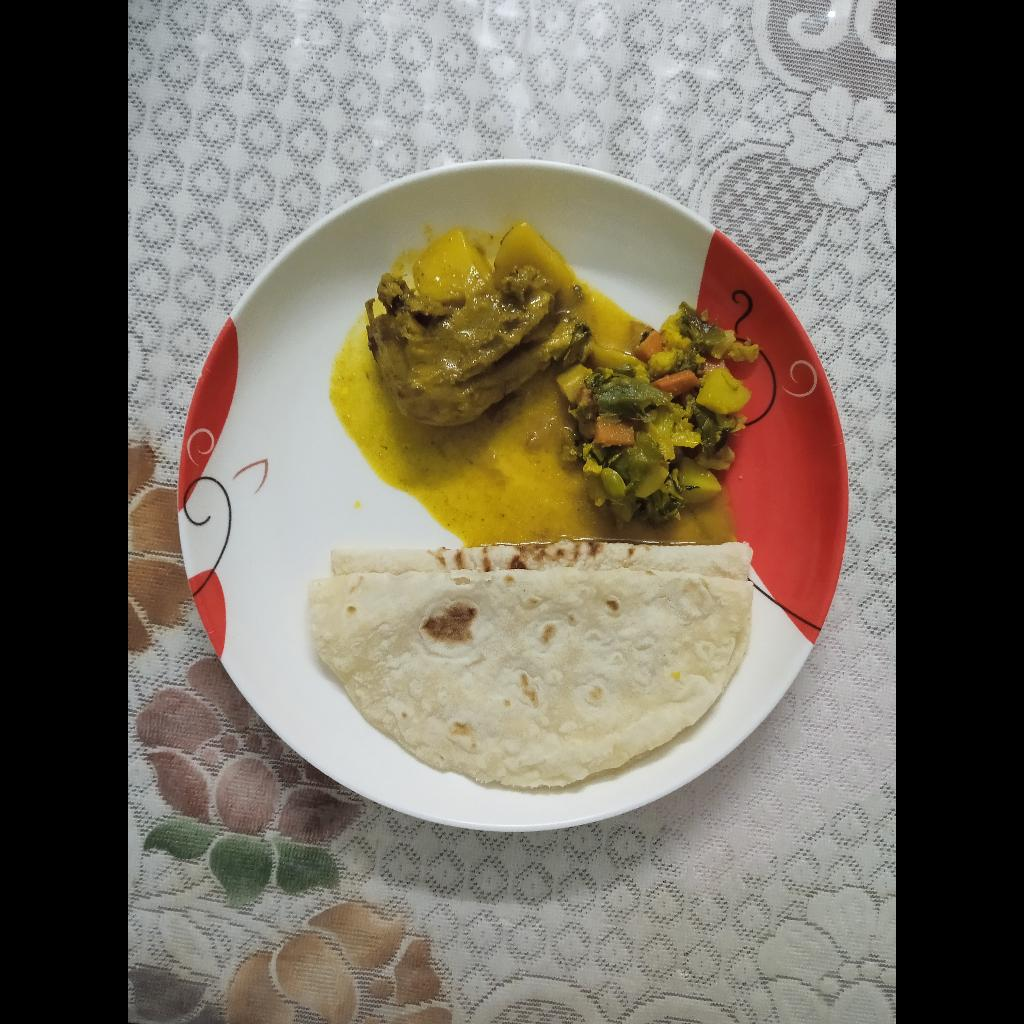chicken: (366, 266, 591, 426)
potato: (412, 219, 573, 301)
ruti: (308, 541, 756, 791)
vegetable: (555, 300, 761, 524)
